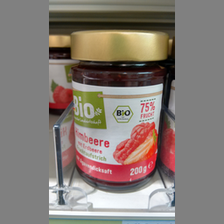jam: (69, 30, 171, 193)
